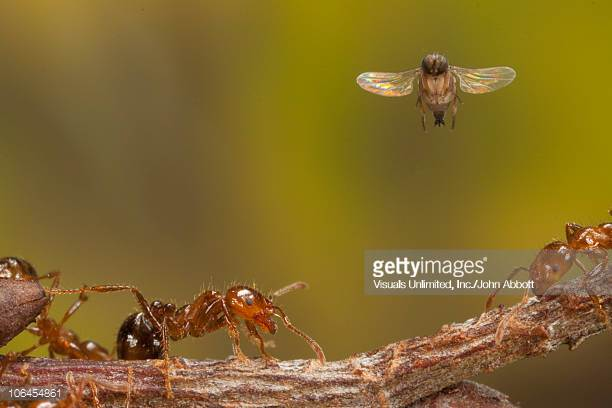phorid fly: (341, 45, 546, 137)
